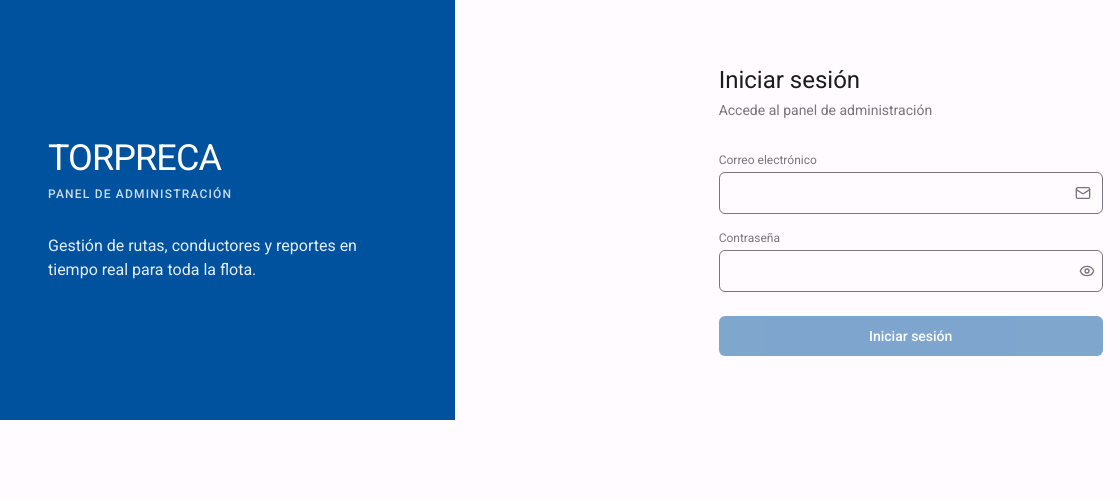
Test case: LoginPage › shows an error when the credentials are rejected
This screenshot has width=1120, height=499.
Step 1. Type "bad@example.com" into the field labelled "Correo electrónico" → (911, 193), box [719,172,1103,214]
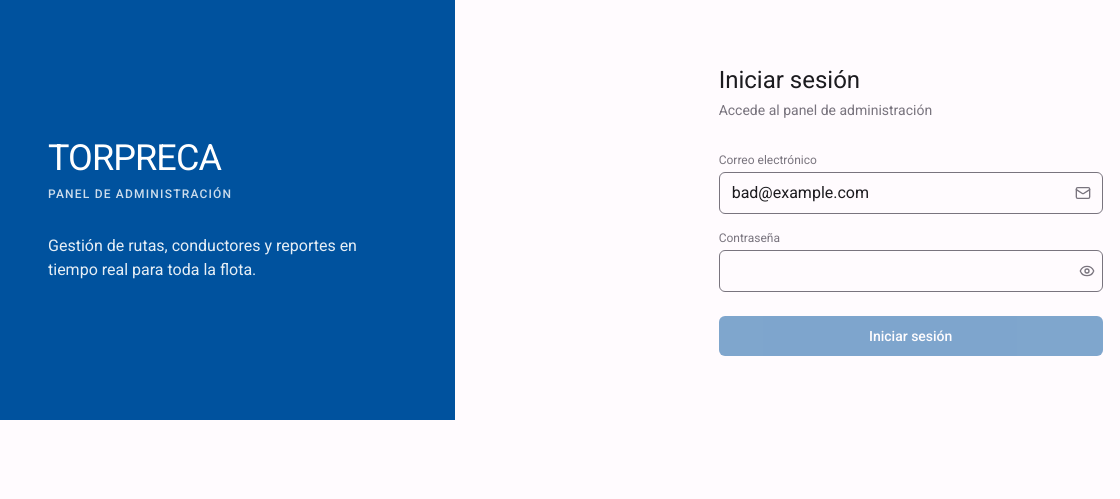
Step 2. Type "wrong" into the password field labelled "Contraseña" → (911, 271), box [719,250,1103,292]
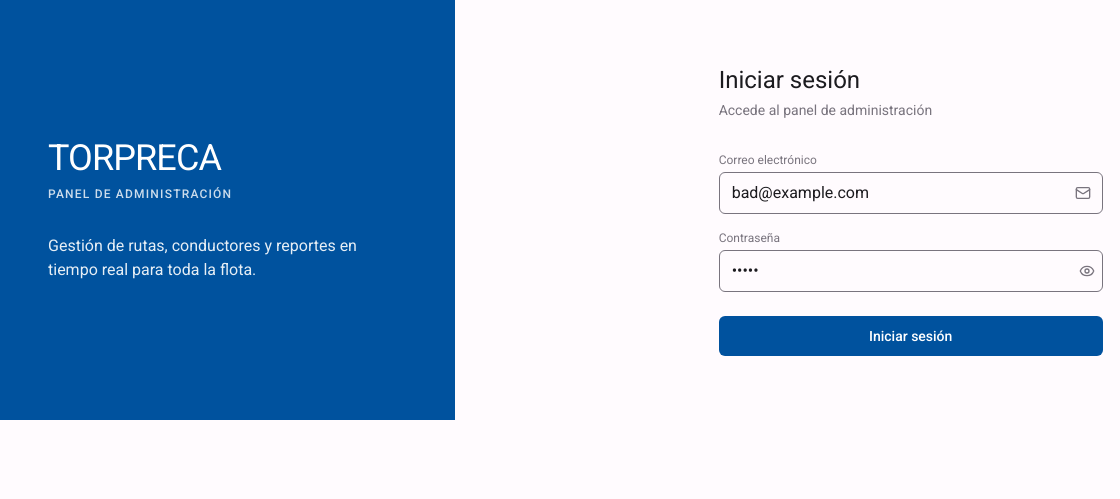
Now the button "Iniciar sesión" is enabled
Step 3. Click the button "Iniciar sesión" → (911, 336), box [719,316,1103,356]
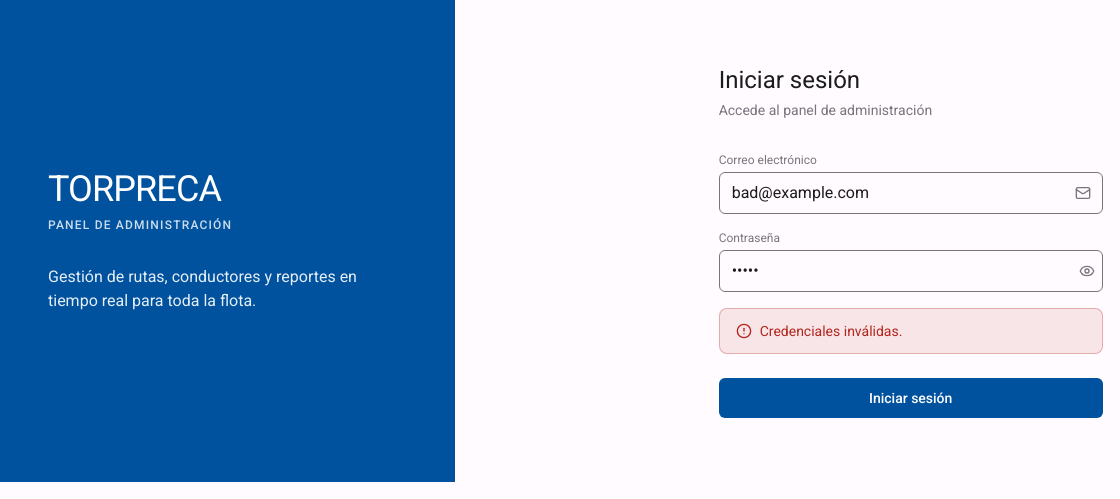
Now the message shows "Credenciales inválidas", box [760,323,902,339]
